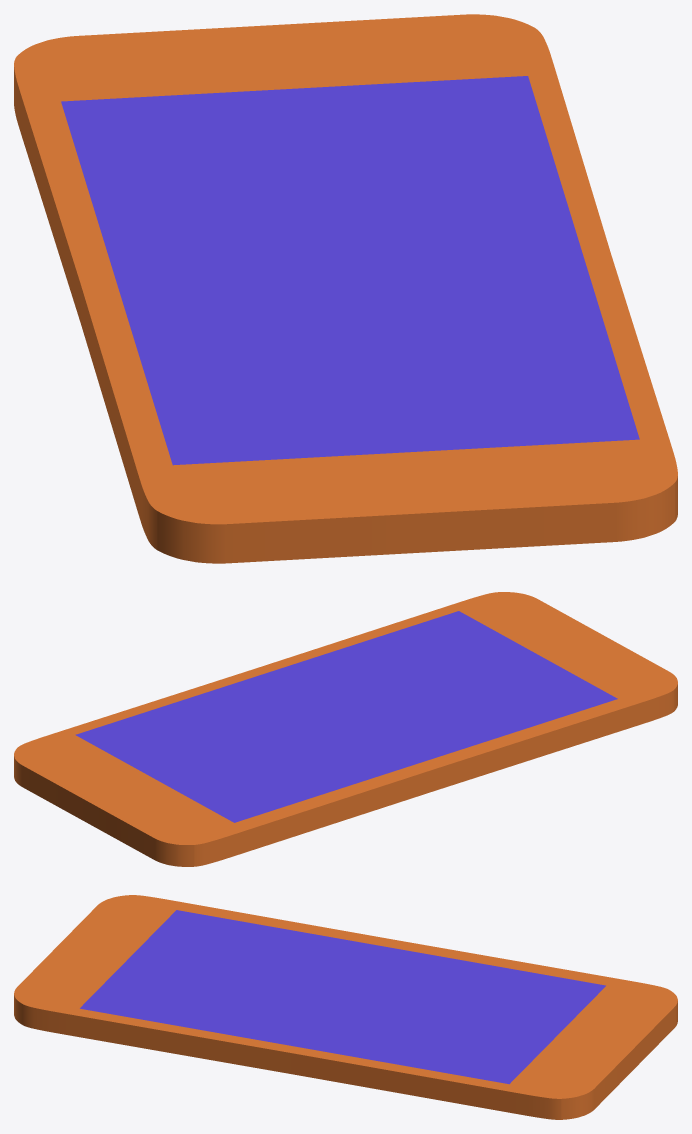
Rendered from iphone.fbx.
The picture shows the model from 3 angles, top to bottom: view 1: azimuth 30°, elevation 25°; view 2: azimuth 150°, elevation 25°; view 3: azimuth 270°, elevation 25°; orthographic projection. The views are drawn at different scales.
Parts seen in each view (by area): view 1: iphone-screen, iphone; view 2: iphone-screen, iphone; view 3: iphone-screen, iphone.
Part boxes in pixels (box(x1,y1,x2,y2)): iphone-screen: box(61, 76, 639, 465); iphone: box(14, 14, 677, 563); iphone-screen: box(75, 611, 617, 822); iphone: box(14, 592, 677, 866); iphone-screen: box(80, 910, 605, 1084); iphone: box(14, 895, 677, 1119).
Bounding box in the file's own units: 1.24 × 0.0607 × 1.71.
